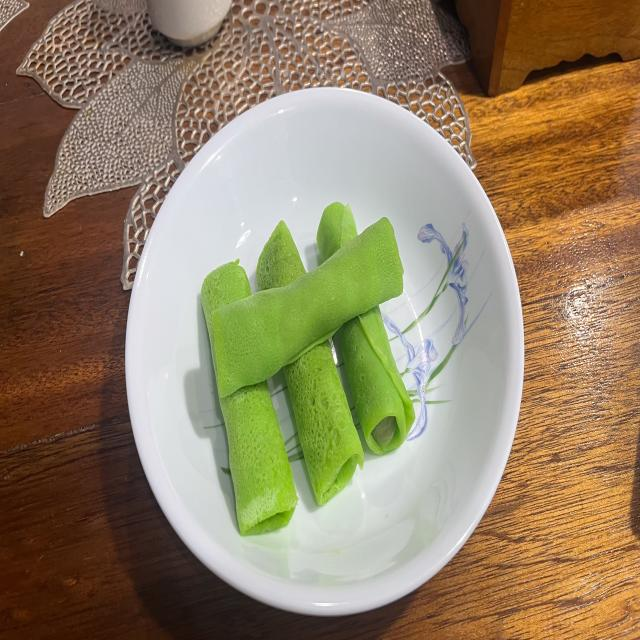Kuih-Ketayap: (212, 218, 404, 398), (285, 342, 364, 504), (220, 382, 298, 536), (340, 307, 415, 453), (201, 260, 251, 378), (256, 220, 305, 291), (318, 202, 358, 260)
